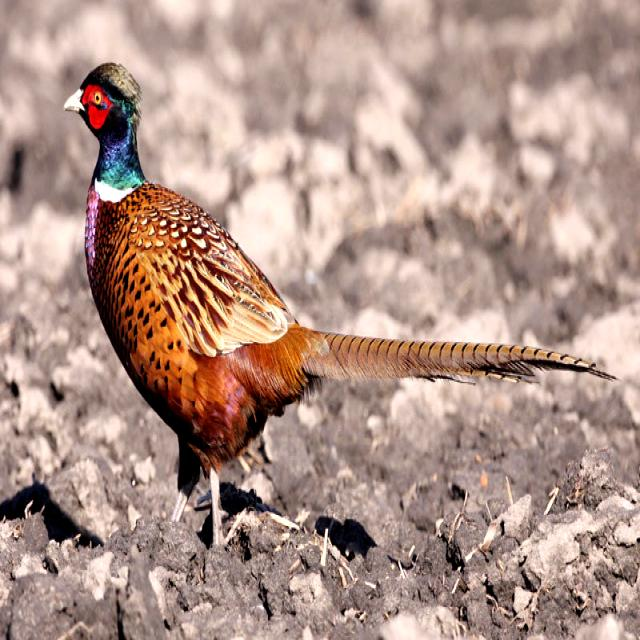Phasianus Colchicus: (304, 328, 623, 381)
